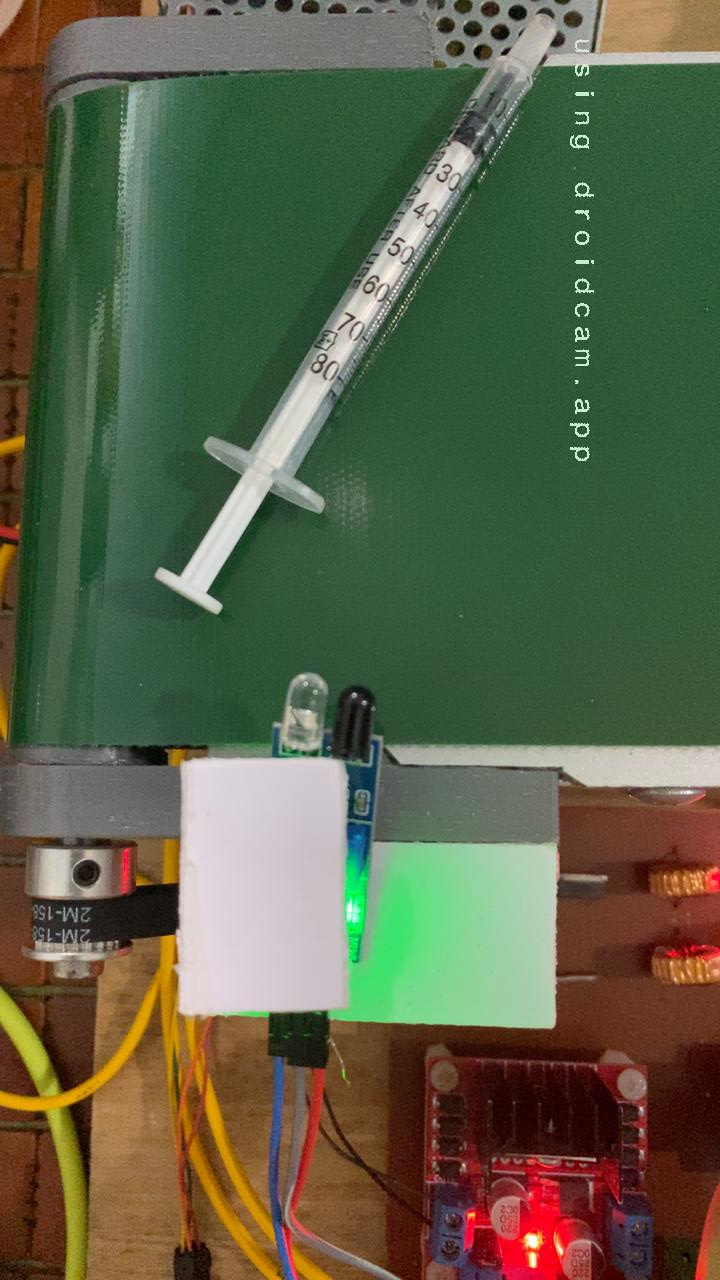syringe: (148, 68, 545, 622)
